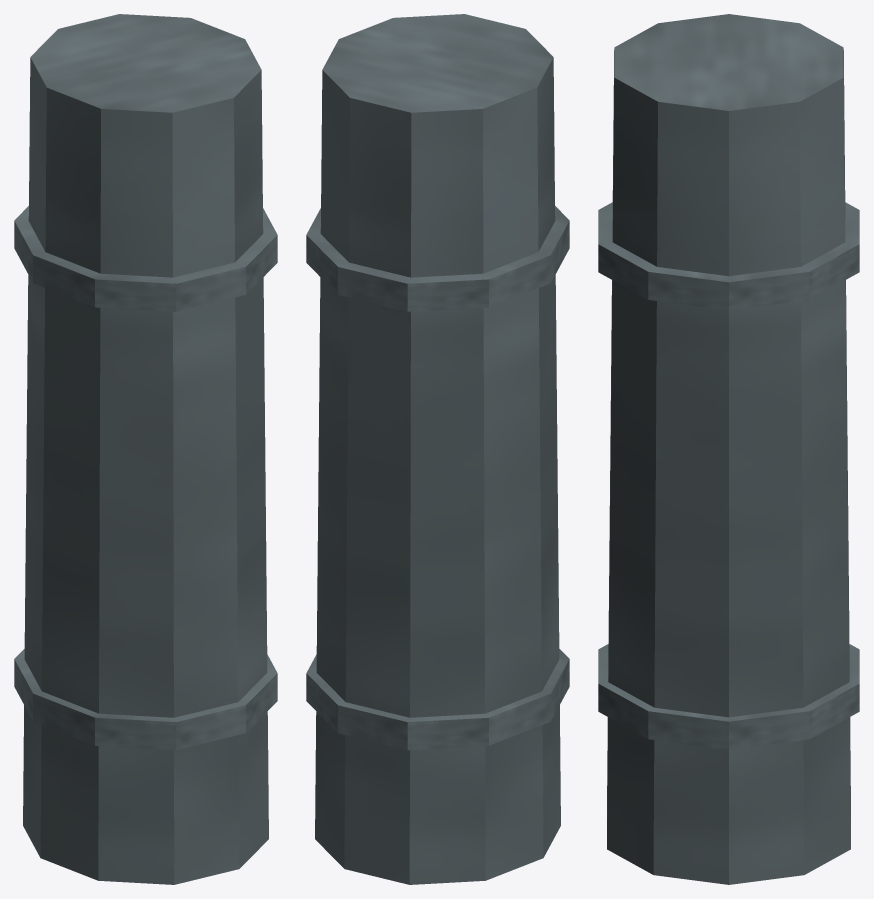
The model's file is pipe_segment_L.fbx.
3 renders of one model, left to right at view 1: azimuth 30°, elevation 25°; view 2: azimuth 150°, elevation 25°; view 3: azimuth 270°, elevation 25°, orthographic.
Visible parts, largest first — view 1: pipe_segment_L; view 2: pipe_segment_L; view 3: pipe_segment_L.
Boxes of the visible parts, <box> form: pipe_segment_L: <box>14,14,277,884</box>; pipe_segment_L: <box>306,14,569,884</box>; pipe_segment_L: <box>598,14,859,884</box>.
Size of the model in its own units: 59 by 192 by 59.
Materials: 1 (1 with a texture image).
